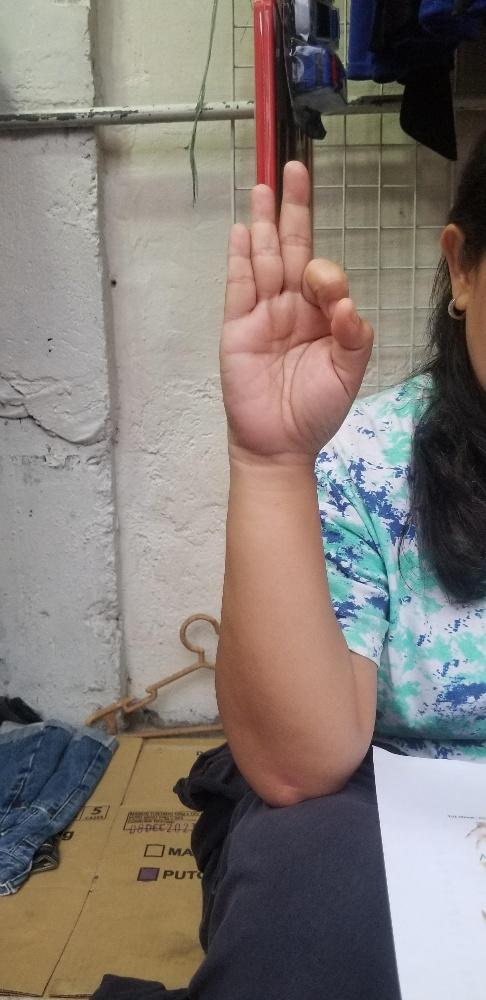f: (220, 160, 373, 452)
